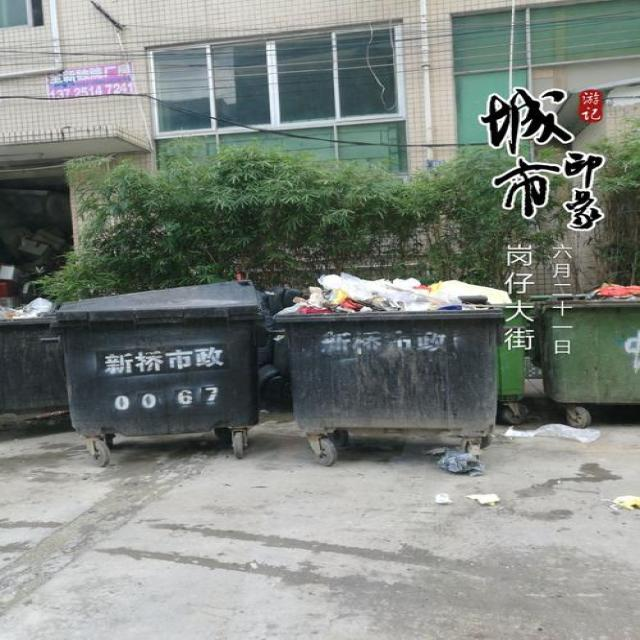garbage: (433, 445, 498, 505), (503, 419, 600, 444)
garbage_bin: (55, 279, 261, 431)
overflow: (276, 274, 510, 432), (535, 282, 639, 405), (0, 298, 67, 412)
